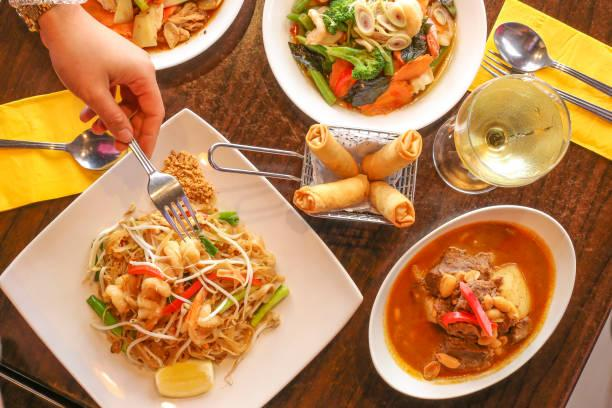Braised Crucian Carp: (1, 108, 362, 408), (368, 206, 575, 400), (261, 1, 484, 135)
